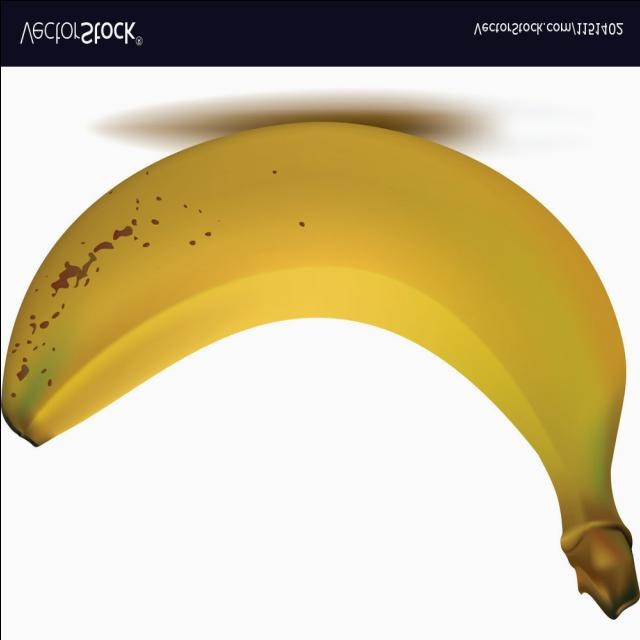agrume: (0, 118, 639, 617)
